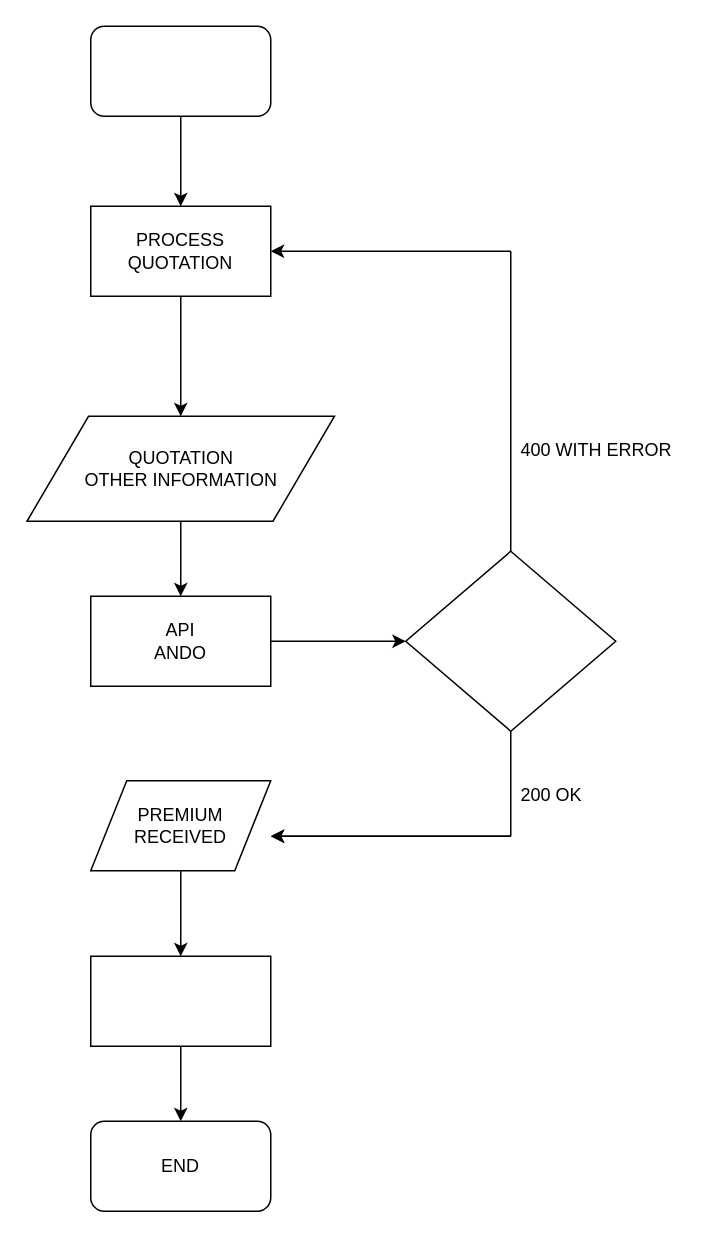
This 723x1238 diagram has some shape labels left out. The centre of each missing label's shape, as x and y in pixels:
"PAYMENTS STRIPE" goes at pixel 180 1000.
"start" goes at pixel 180 70.
"VALIDATE INFORMATION" goes at pixel 510 640.
